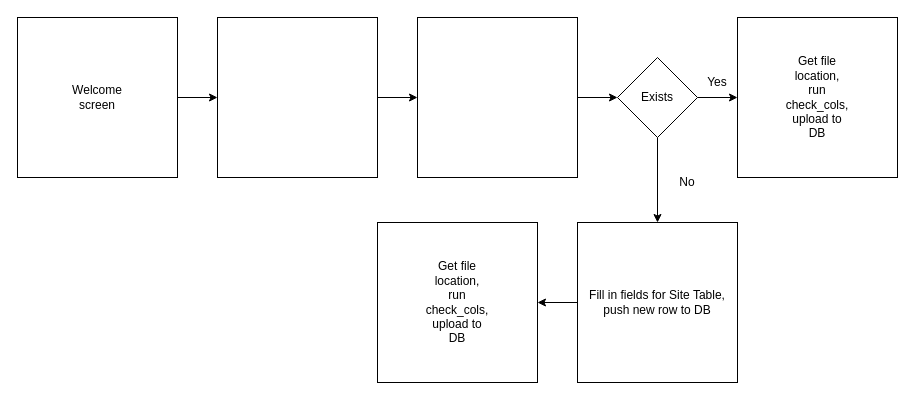
Some shapes in this 915 by 400 pixel diagram are drawn without their labels. Each missing label, with the box of its shape:
Query DB for site name: (416, 16, 578, 178)
What is the name of the site?: (216, 16, 378, 178)
